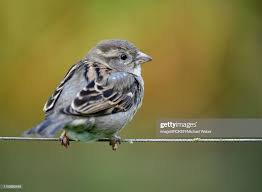hsparrow: (21, 34, 155, 172)
